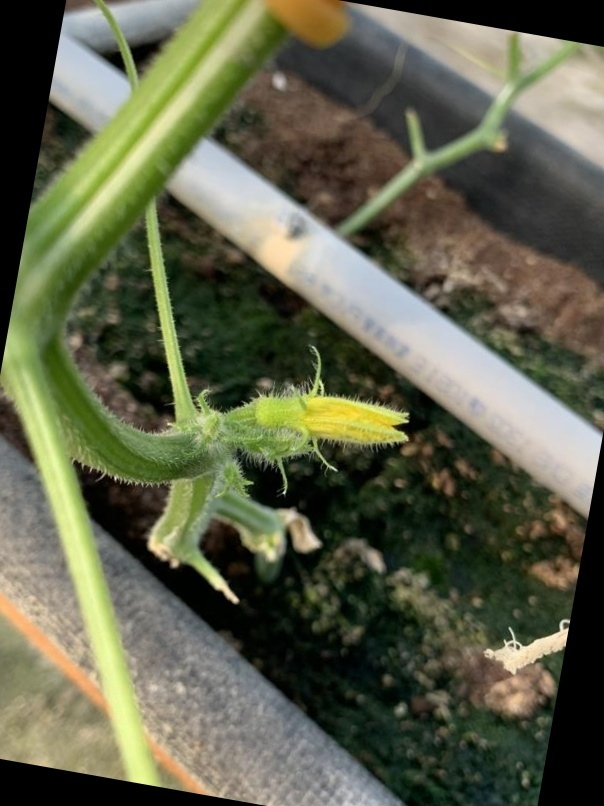bud: (225, 387, 409, 469)
